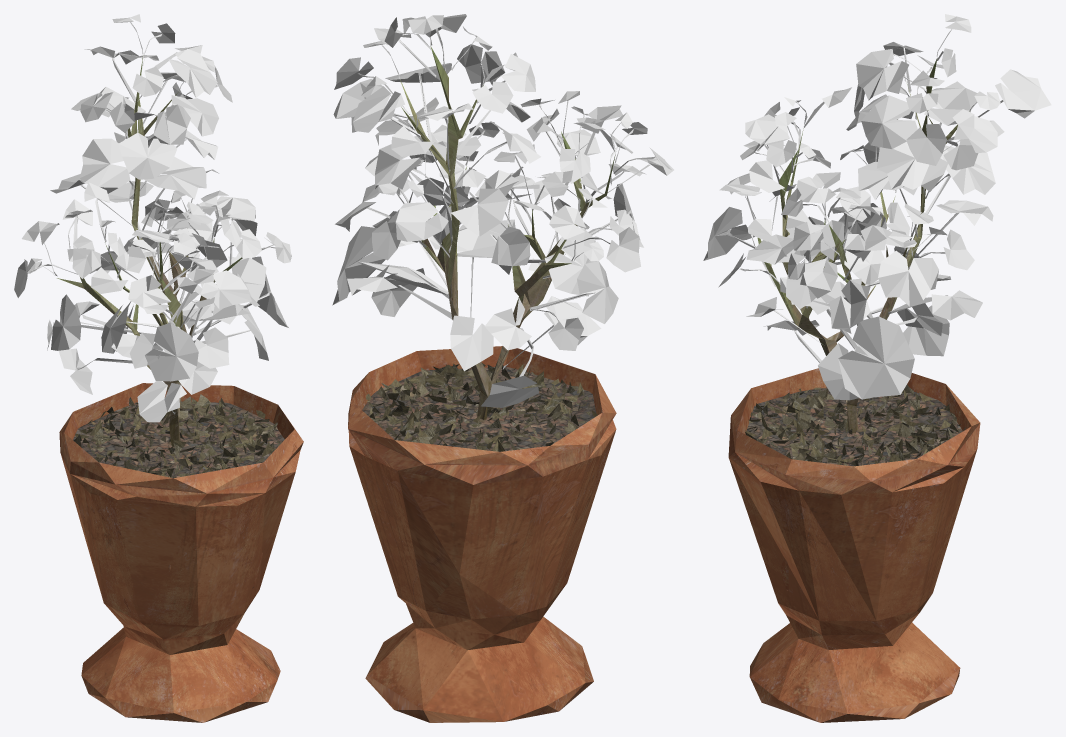
The model's file is potted_plant_01.fbx.
3 renders of one model, left to right at view 1: azimuth 30°, elevation 25°; view 2: azimuth 150°, elevation 25°; view 3: azimuth 270°, elevation 25°, orthographic. The views are drawn at different scales.
Visible parts, largest first — view 1: potted_plant_01; view 2: potted_plant_01; view 3: potted_plant_01.
Boxes of the visible parts, <box> form: potted_plant_01: <box>14,14,303,722</box>; potted_plant_01: <box>332,14,673,722</box>; potted_plant_01: <box>703,14,1051,722</box>.
Size of the model in its own units: 0.5896 by 1.34 by 0.6397.
Materials: 2 (1 with a texture image).
